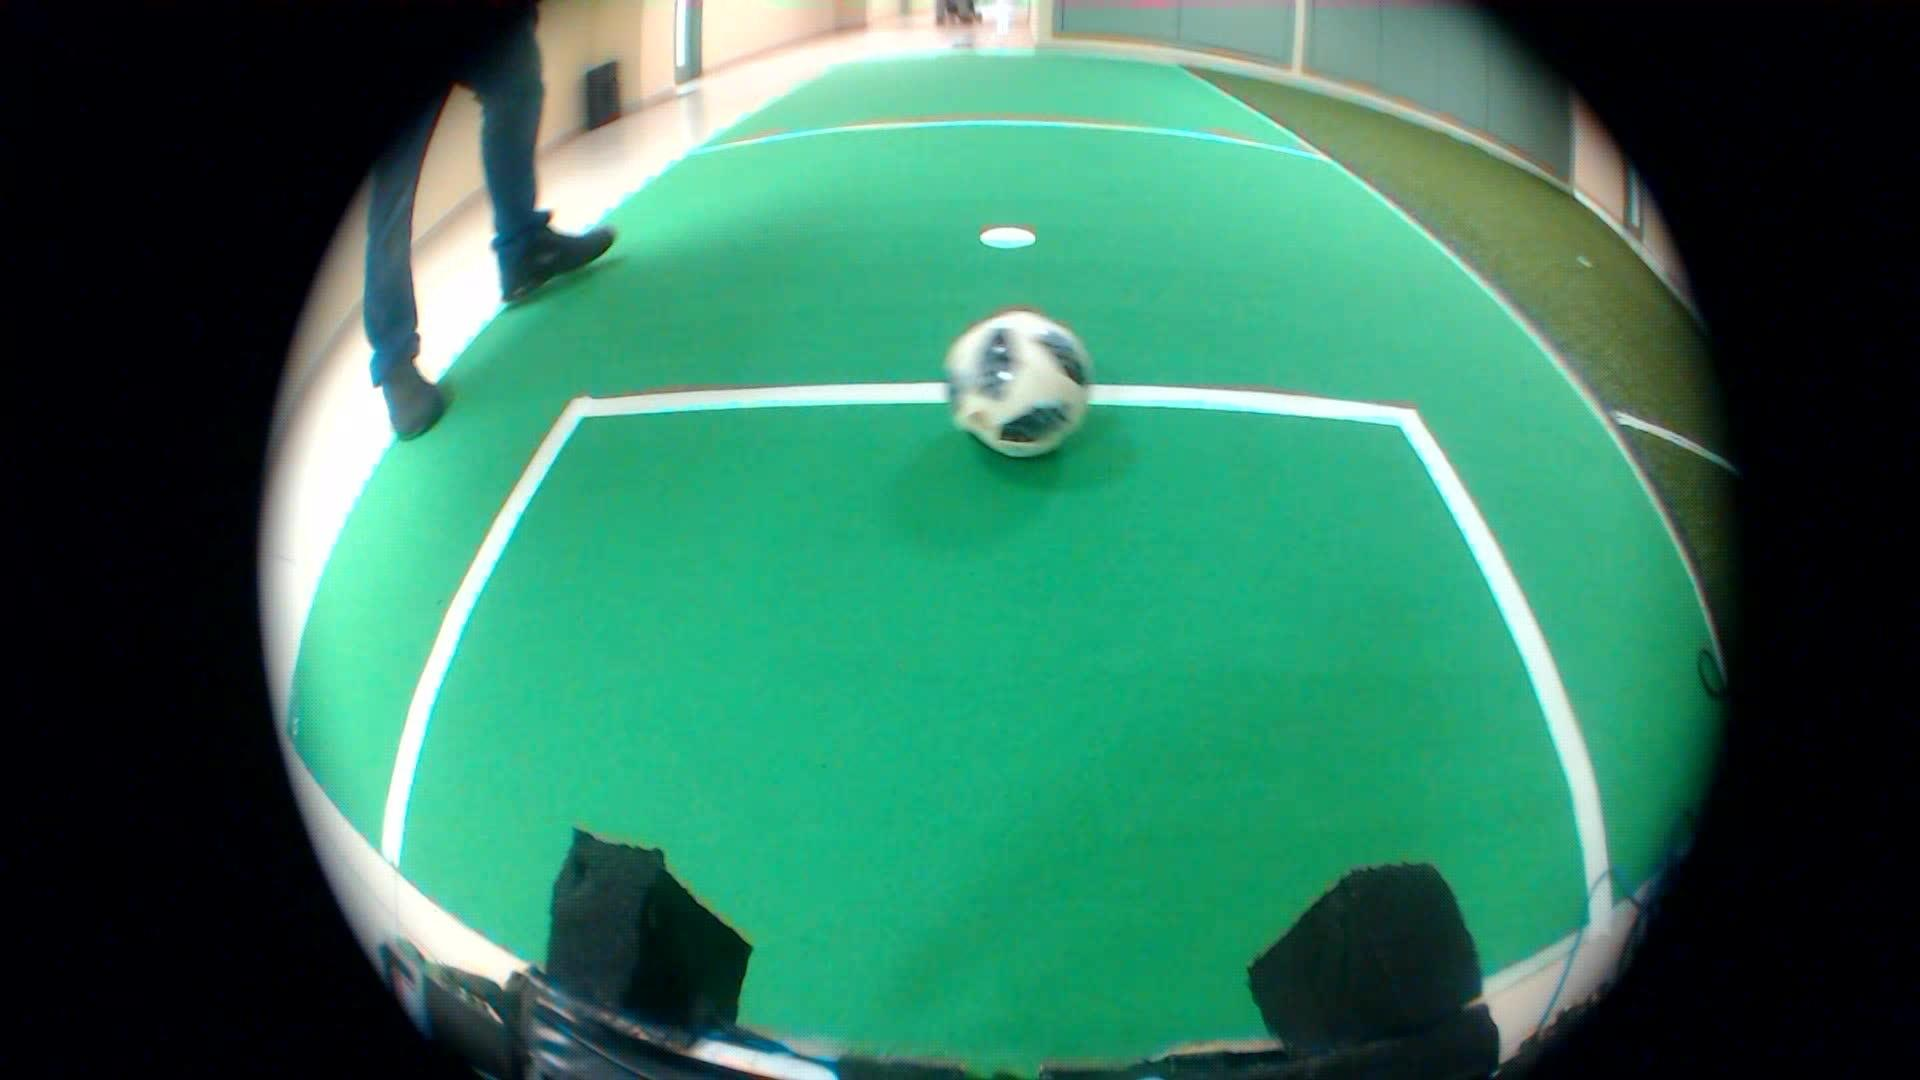ball: (924, 294, 1105, 476)
